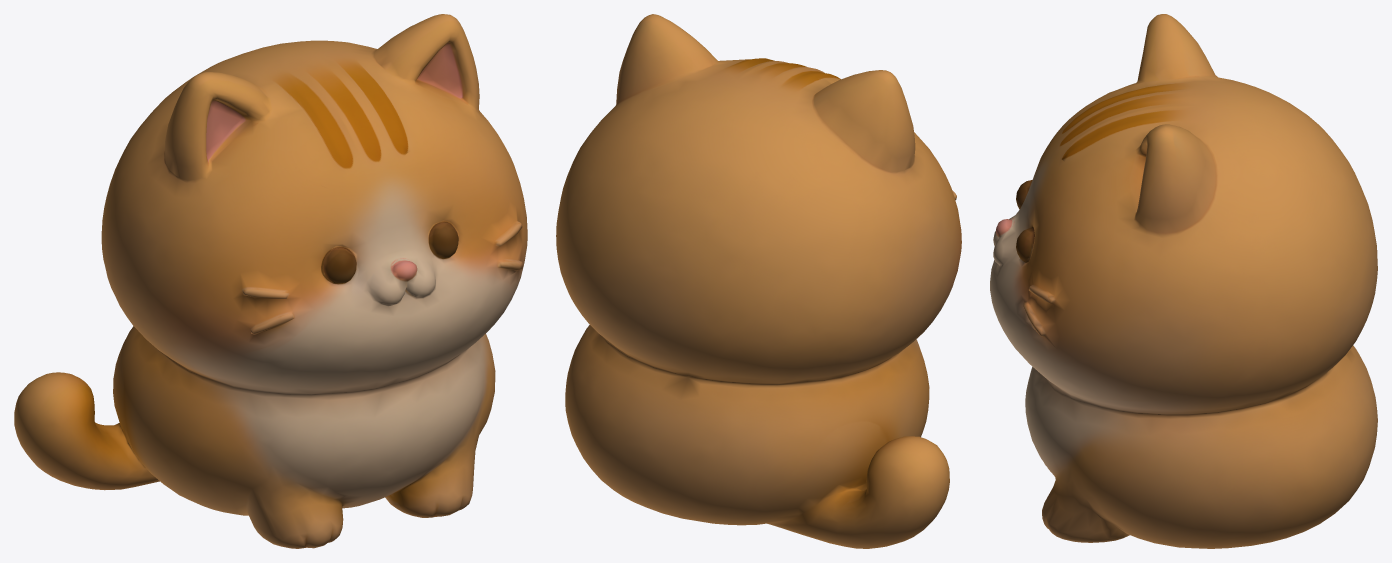
File: cat-approved.glb
The picture shows the model from 3 angles, left to right: view 1: azimuth 30°, elevation 25°; view 2: azimuth 150°, elevation 25°; view 3: azimuth 270°, elevation 25°; orthographic projection. The views are drawn at different scales.
Parts seen in each view (by area): view 1: material; view 2: material; view 3: material.
Part boxes in pixels (x1=…): material: x1=14, y1=14, x2=527, y2=548; material: x1=556, y1=14, x2=961, y2=548; material: x1=990, y1=14, x2=1377, y2=548.
Size of the model in its own units: 1.9 by 1.88 by 1.55.
1 material, 1 textured.
